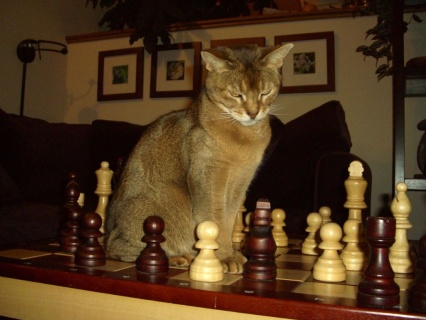Cat: (102, 43, 297, 260)
